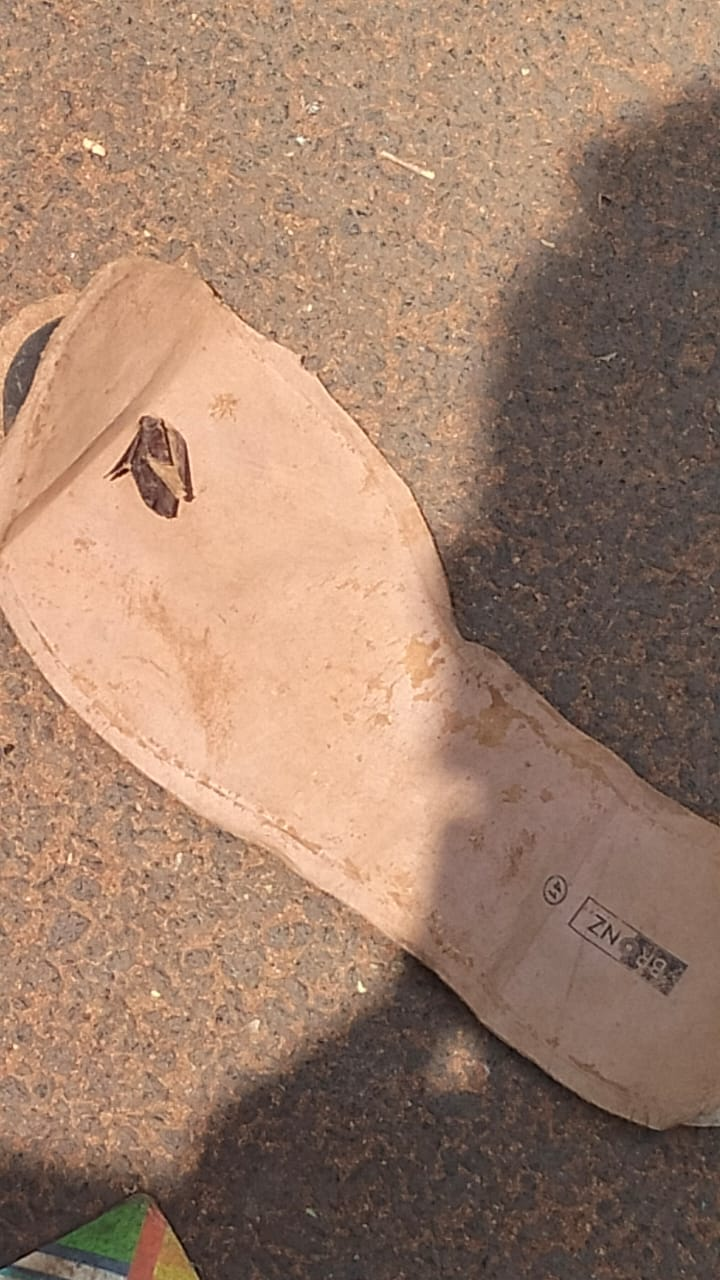footwear: (1, 259, 720, 1253)
